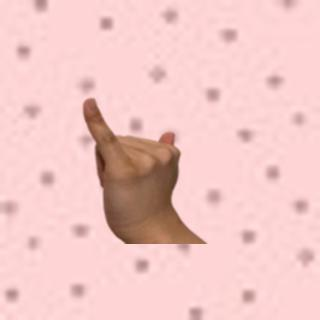HAVE: (72, 93, 189, 236)
